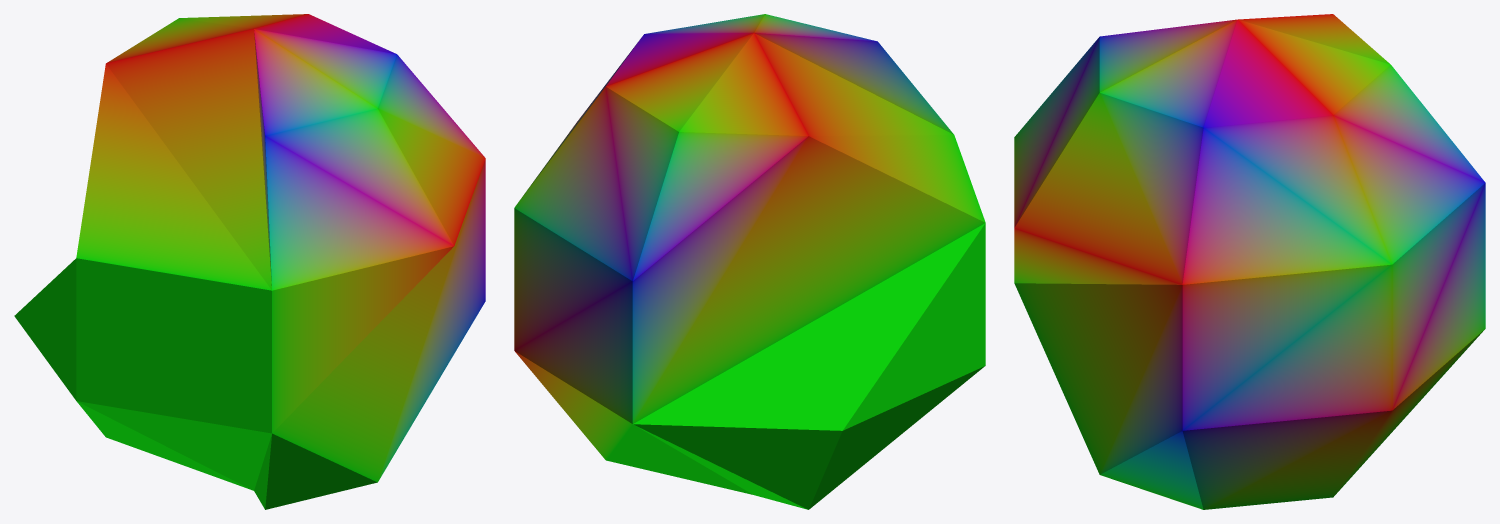
The model's file is re_decimating_conquest_5_retriangulation.obj.
3 renders of one model, left to right at view 1: azimuth 30°, elevation 25°; view 2: azimuth 150°, elevation 25°; view 3: azimuth 270°, elevation 25°, orthographic. The views are drawn at different scales.
Size of the model in its own units: 1.85 by 2 by 1.81.
